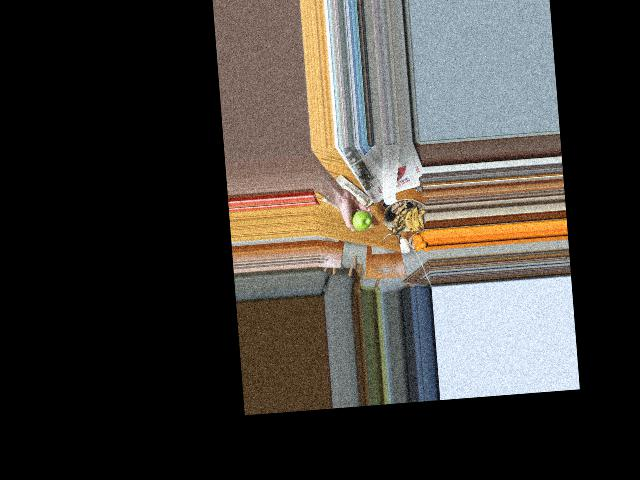apple: (351, 208, 371, 232)
